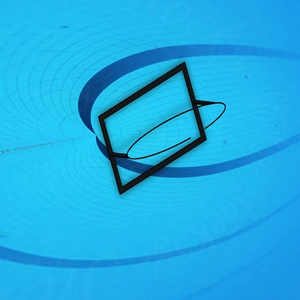circle: (97, 58, 229, 197)
